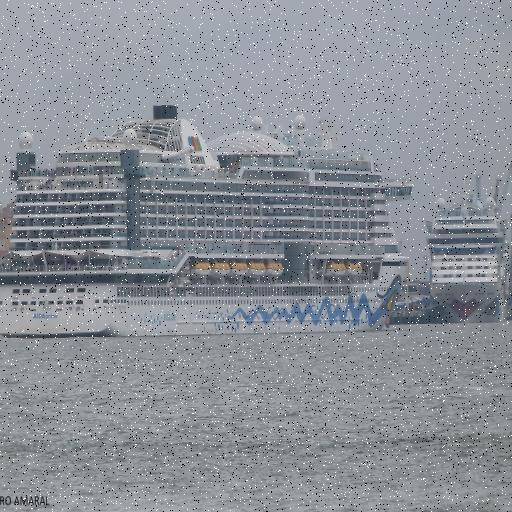cruises: (1, 112, 416, 342), (423, 186, 512, 329)
